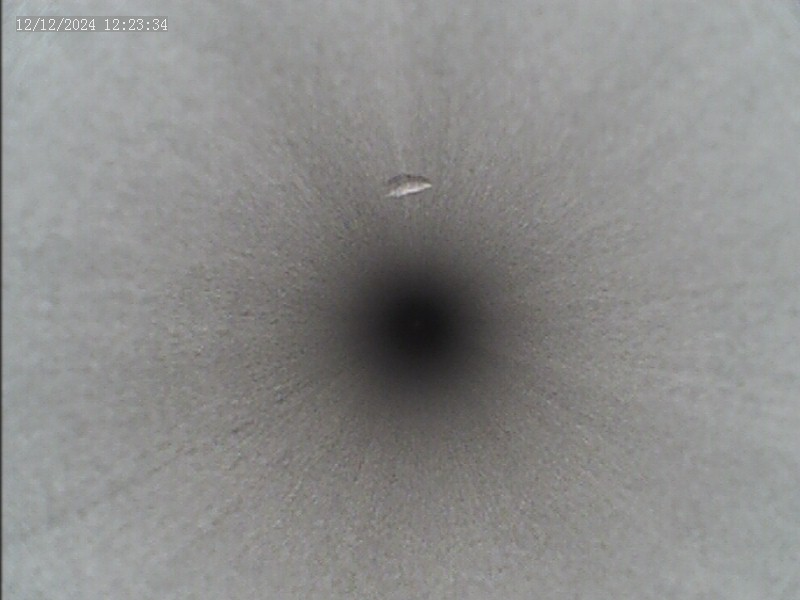defective_area: (384, 169, 432, 206)
